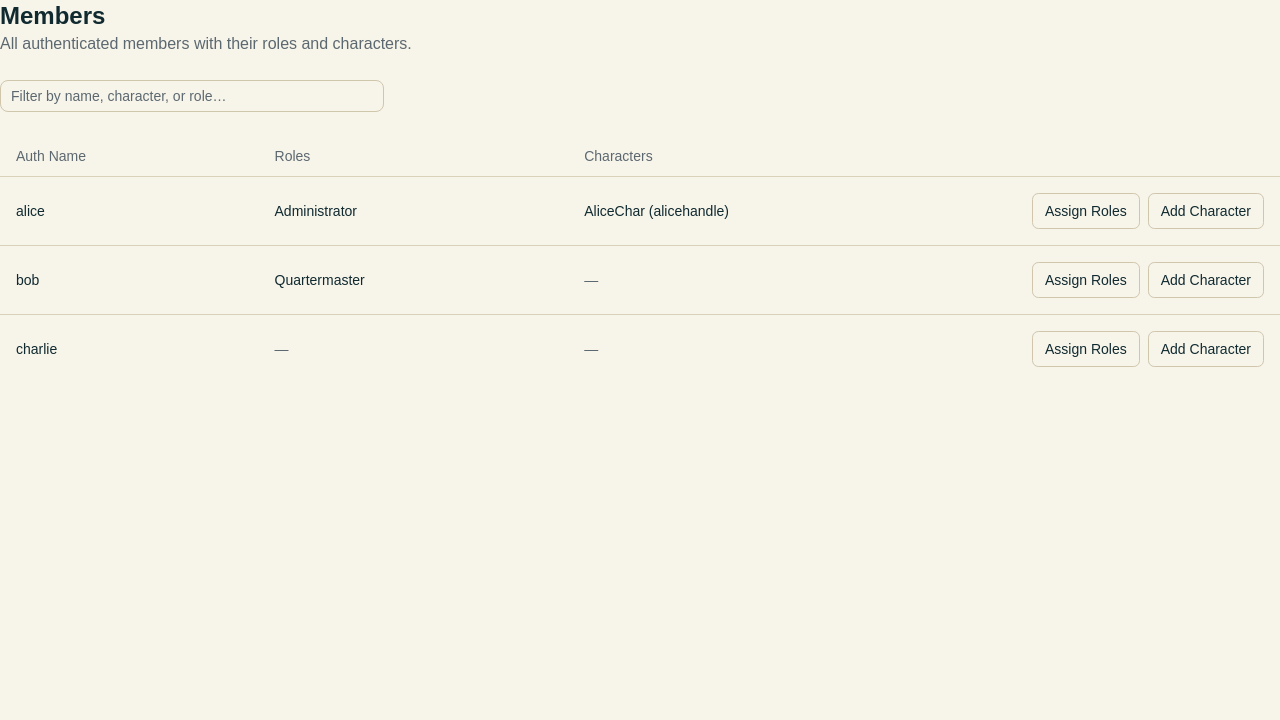
Test: AdminUsersPage — Add Character dialog › shows already-claimed message on 409
The width and height of the screenshot is (1280, 720).
Expected: the text "alice" is shown, x1=0 y1=176 x2=258 y2=245
Click the button "Add Character" in the row of "Administrator" at (1206, 210), box x1=1148 y1=192 x2=1264 y2=228
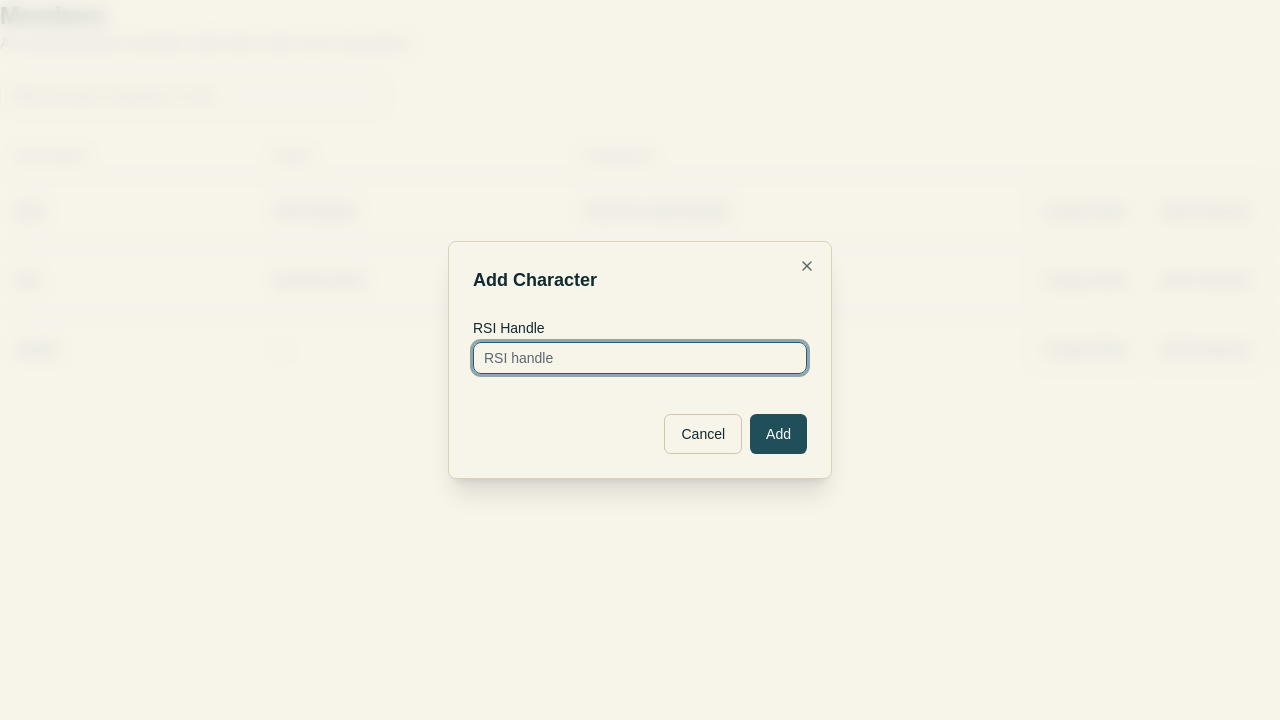
Type "claimedhandle" into the field with placeholder "RSI Handle" at (640, 358), box x1=473 y1=342 x2=807 y2=374
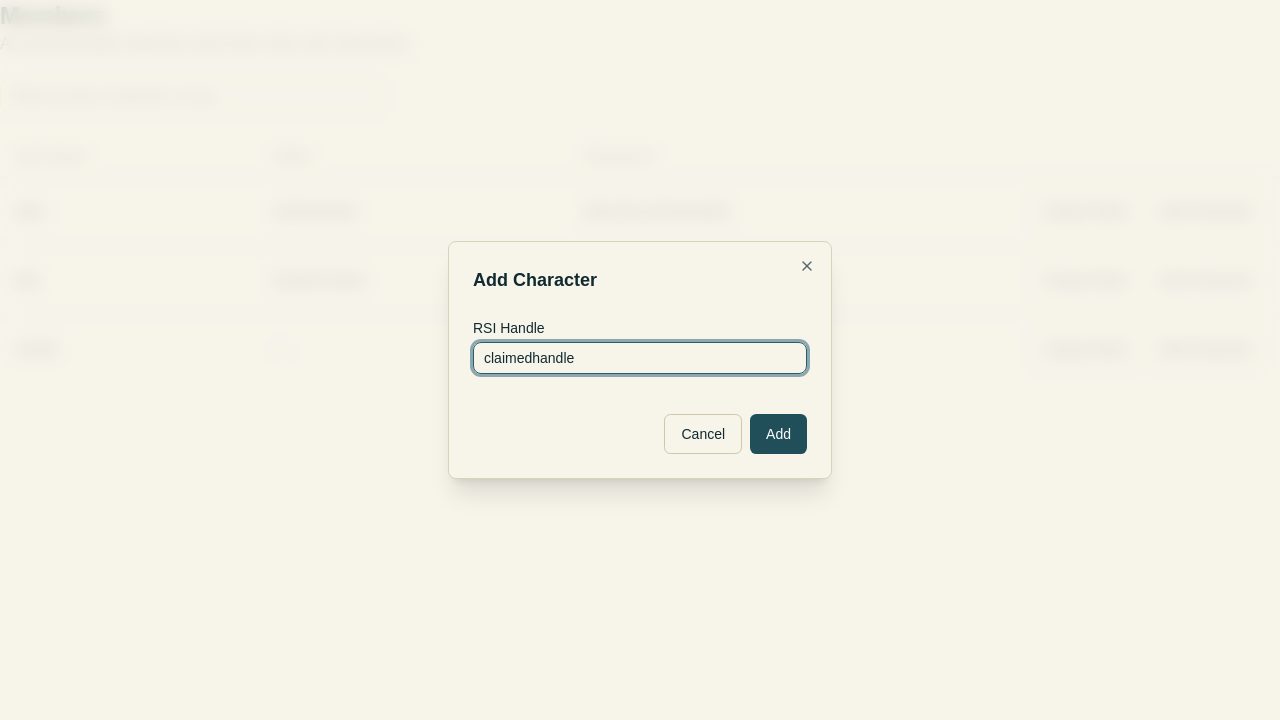
Click the button "Add" at (779, 434), box x1=750 y1=414 x2=807 y2=454
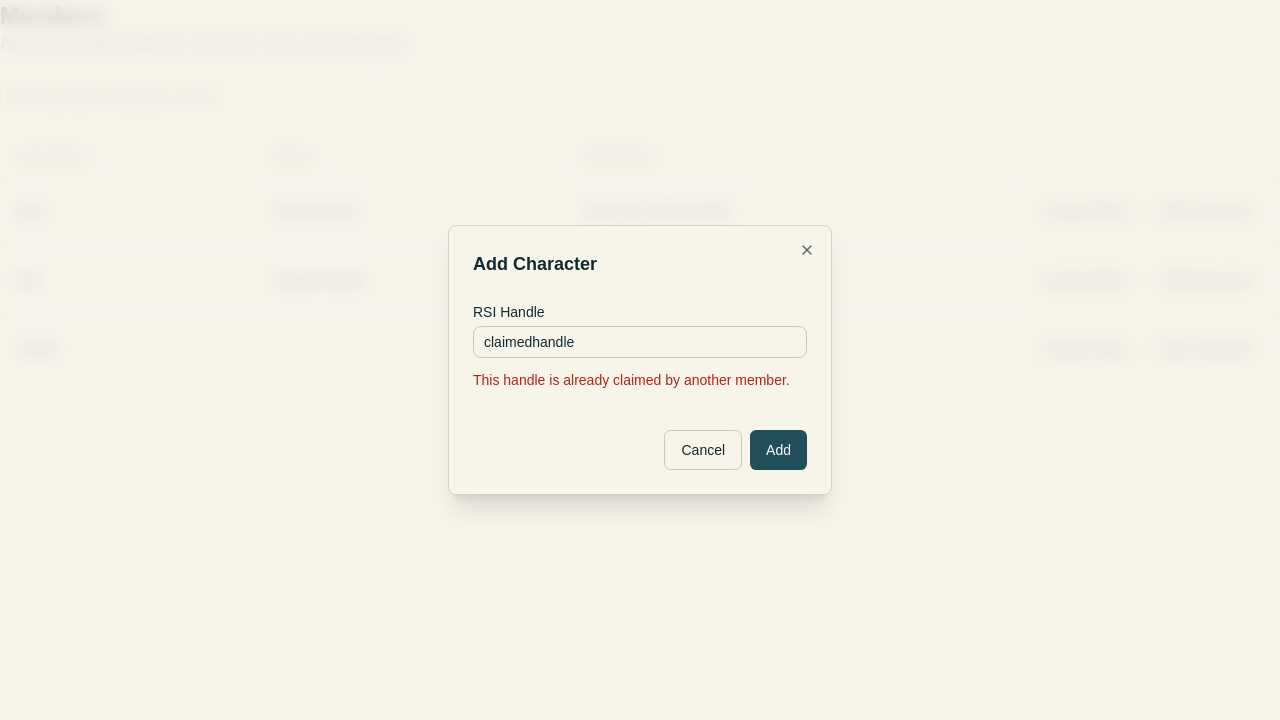
Result: the text "This handle is already claimed by another member." is shown at x1=473 y1=370 x2=807 y2=390
